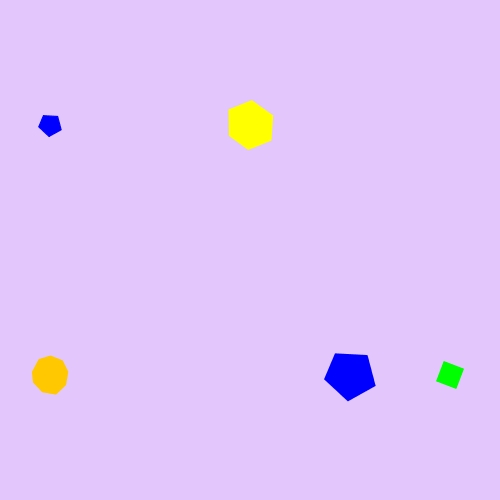hexagon: (221, 101, 280, 150)
nonagon: (27, 353, 73, 397)
pentagon: (322, 347, 379, 404), (35, 110, 66, 141)
quadrilateral: (431, 356, 469, 394)
